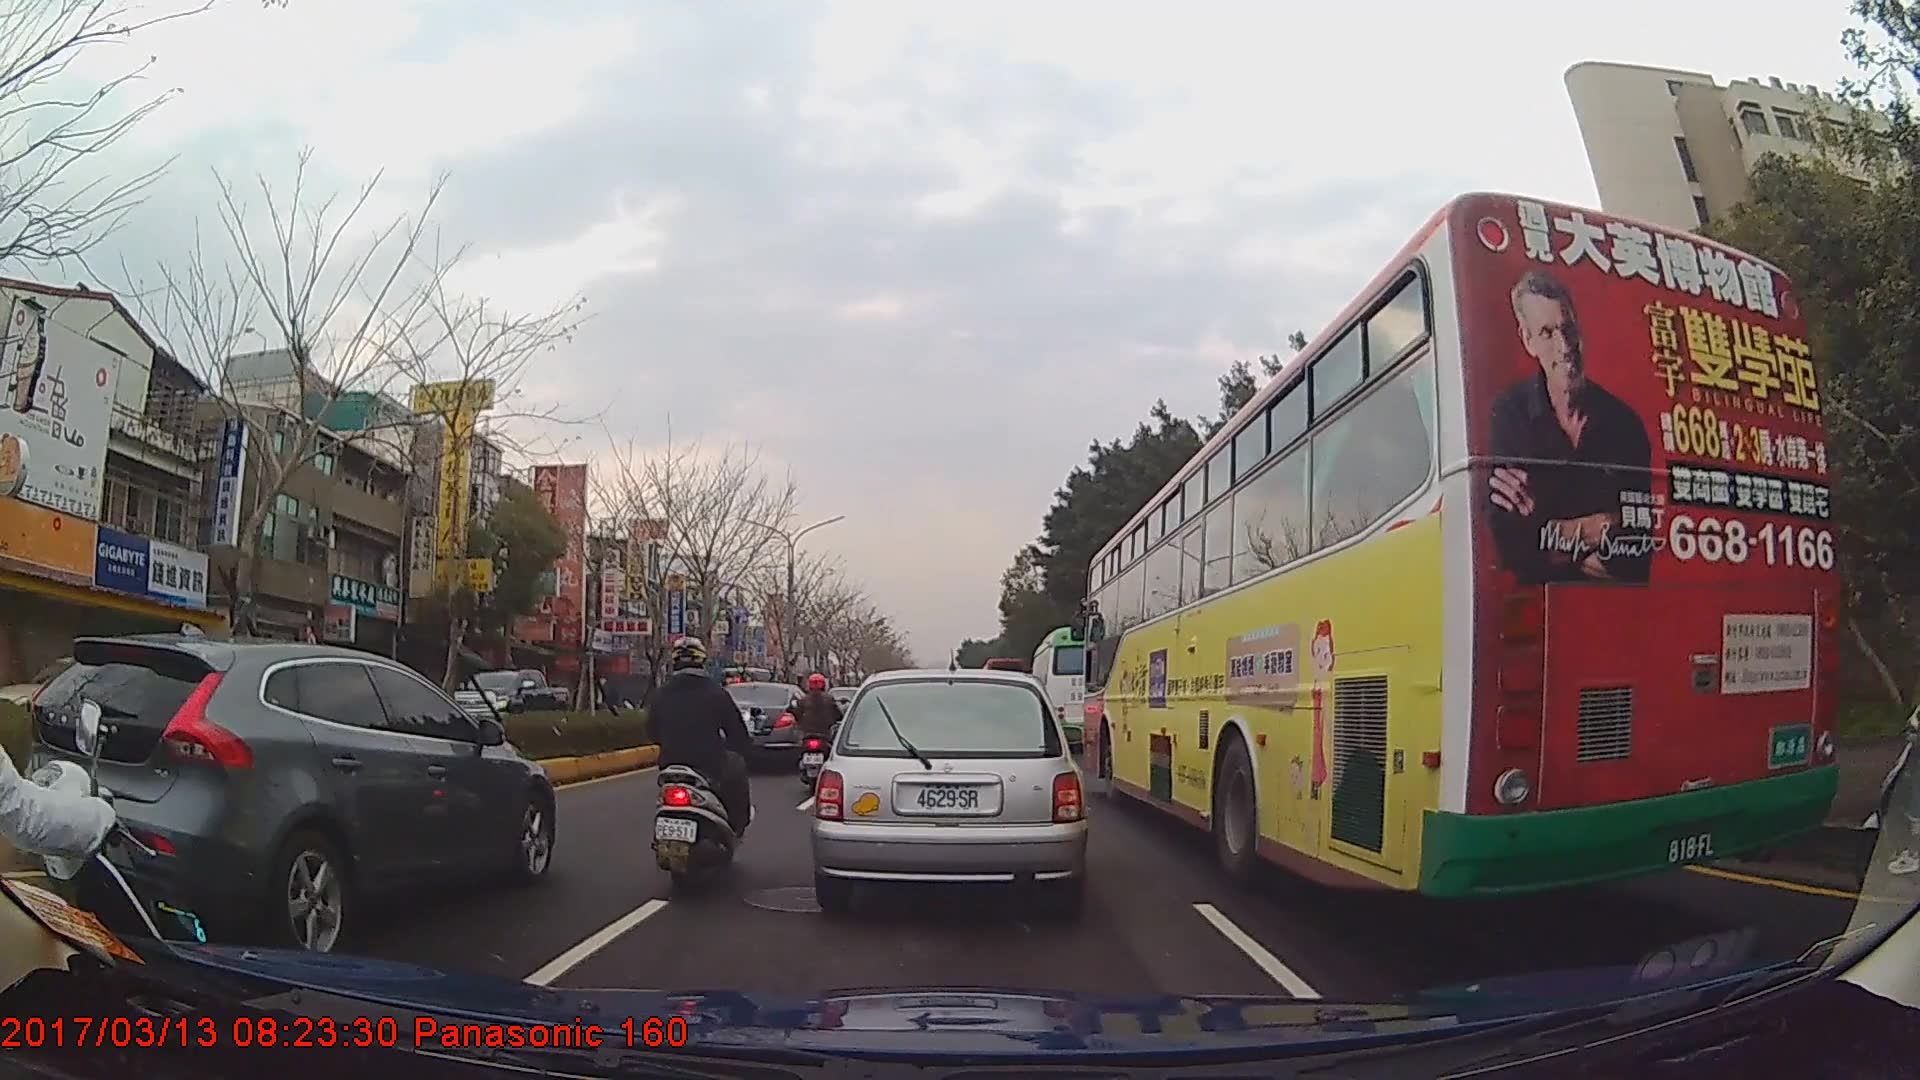rider: (641, 633, 752, 892), (1853, 588, 1920, 890), (789, 673, 846, 791)
vehicle: (1081, 187, 1843, 906), (13, 629, 557, 940), (812, 667, 1086, 915), (1027, 626, 1116, 749), (705, 680, 816, 770), (448, 666, 568, 734)
